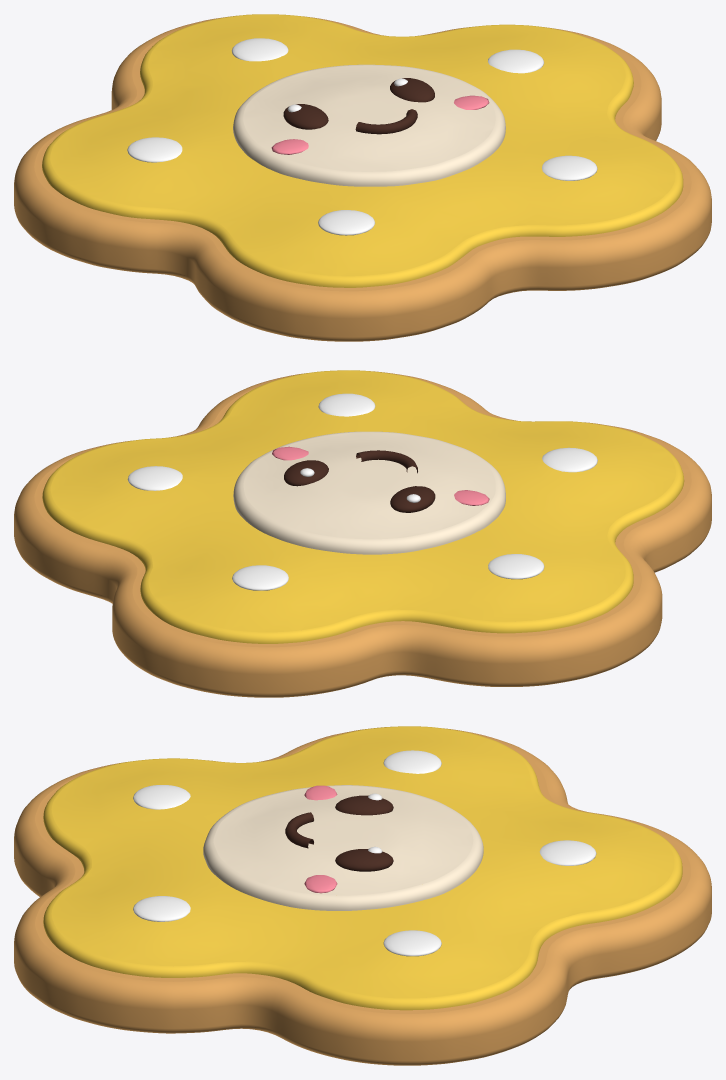
Rendered from FlowerCookie.obj.
3 views of the same model, one above another, from view 1: azimuth 30°, elevation 25°; view 2: azimuth 150°, elevation 25°; view 3: azimuth 270°, elevation 25° (orthographic). The views are drawn at different scales.
Parts seen in each view (by area): view 1: Icing, Cookie, Icing2, Dots, Face, Cheeks; view 2: Icing, Cookie, Icing2, Dots, Face, Cheeks; view 3: Icing, Cookie, Icing2, Dots, Face, Cheeks.
Boxes of the visible parts, bbox=[...] form: Icing: bbox=[42, 14, 683, 287]; Cookie: bbox=[14, 15, 711, 341]; Icing2: bbox=[233, 64, 505, 186]; Dots: bbox=[127, 38, 597, 235]; Face: bbox=[283, 78, 434, 134]; Cheeks: bbox=[271, 95, 489, 154]; Icing: bbox=[42, 370, 684, 643]; Cookie: bbox=[14, 371, 711, 697]; Icing2: bbox=[233, 431, 505, 554]; Dots: bbox=[127, 393, 597, 590]; Face: bbox=[284, 450, 435, 512]; Cheeks: bbox=[272, 446, 489, 505]; Icing: bbox=[43, 726, 682, 1010]; Cookie: bbox=[14, 726, 711, 1065]; Icing2: bbox=[203, 785, 483, 910]; Dots: bbox=[133, 750, 596, 956]; Face: bbox=[285, 795, 393, 871]; Cheeks: bbox=[304, 785, 337, 893].
Size of the model in its own units: 10.26 by 1.46 by 9.98.
